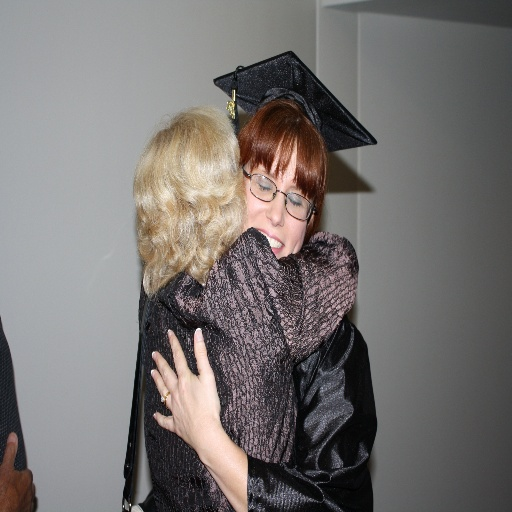hand: (150, 316, 231, 461), (0, 432, 37, 511)
